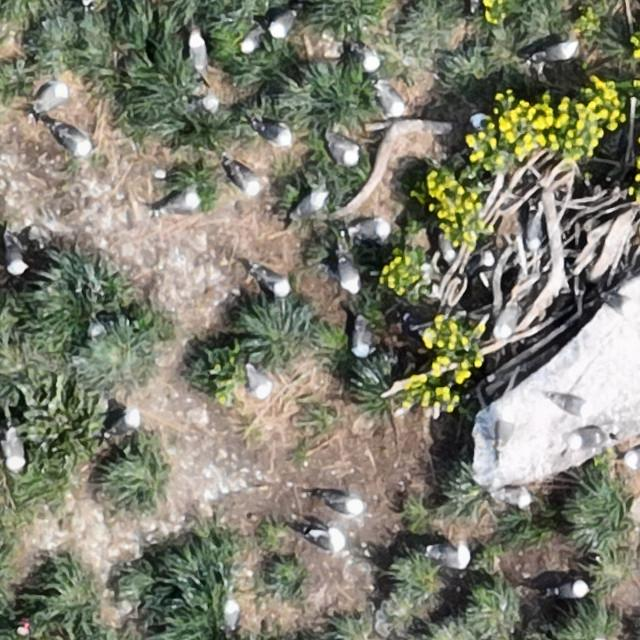umineko: (562, 426, 614, 451), (240, 362, 272, 402), (308, 525, 347, 553), (326, 492, 366, 517), (232, 164, 262, 194), (57, 128, 90, 154), (350, 219, 389, 241), (328, 137, 358, 165), (431, 546, 469, 568), (536, 42, 577, 62), (601, 297, 635, 321), (255, 123, 292, 145), (160, 192, 200, 212), (34, 84, 64, 110), (259, 270, 289, 295), (6, 241, 27, 276), (294, 192, 324, 216), (190, 35, 208, 75), (110, 411, 141, 434), (6, 432, 25, 469), (551, 396, 586, 416), (379, 88, 404, 116), (340, 258, 360, 292), (270, 10, 294, 38), (555, 581, 588, 600), (353, 323, 372, 356), (502, 489, 532, 508), (240, 28, 260, 51), (225, 601, 239, 630), (623, 447, 639, 467)
